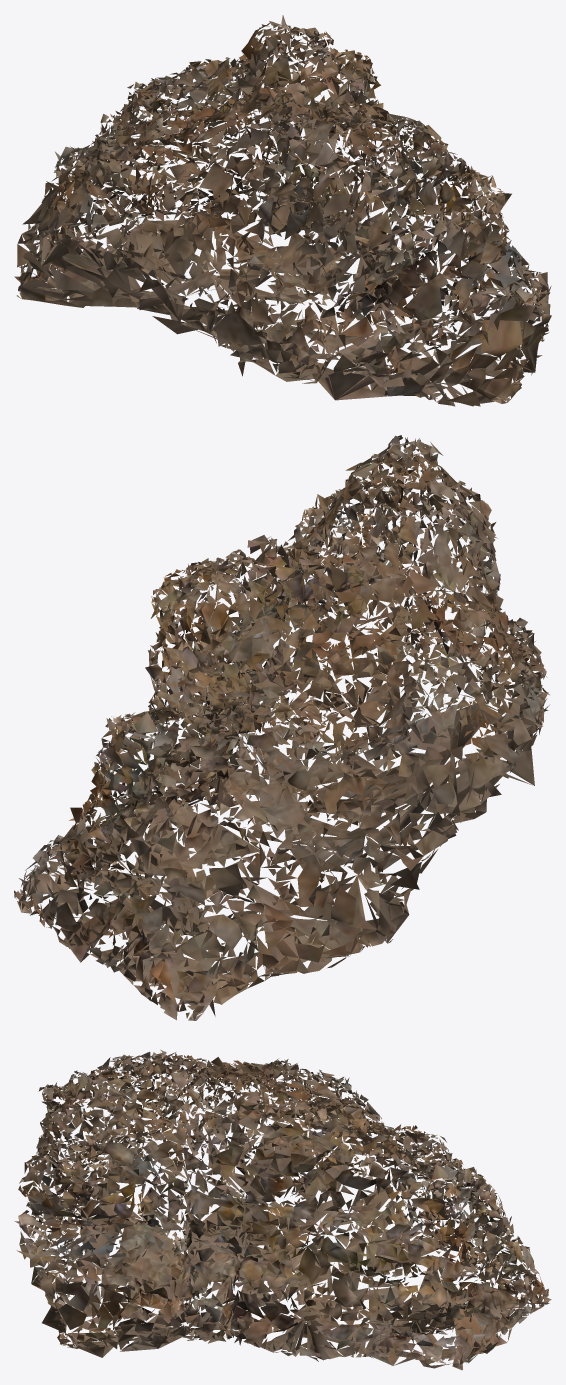
Rendered from rock_c.glb.
The picture shows the model from 3 angles, top to bottom: view 1: azimuth 30°, elevation 25°; view 2: azimuth 150°, elevation 25°; view 3: azimuth 270°, elevation 25°; orthographic projection. The views are drawn at different scales.
Visible parts, largest first — view 1: boulder_01; view 2: boulder_01; view 3: boulder_01.
Part boxes in pixels (<box>): boulder_01: <box>14,15,551,406</box>; boulder_01: <box>14,435,549,1020</box>; boulder_01: <box>14,1049,551,1370</box>.
Size of the model in its own units: 1.3 by 1.01 by 1.84.
Materials: 1 (1 with a texture image).
